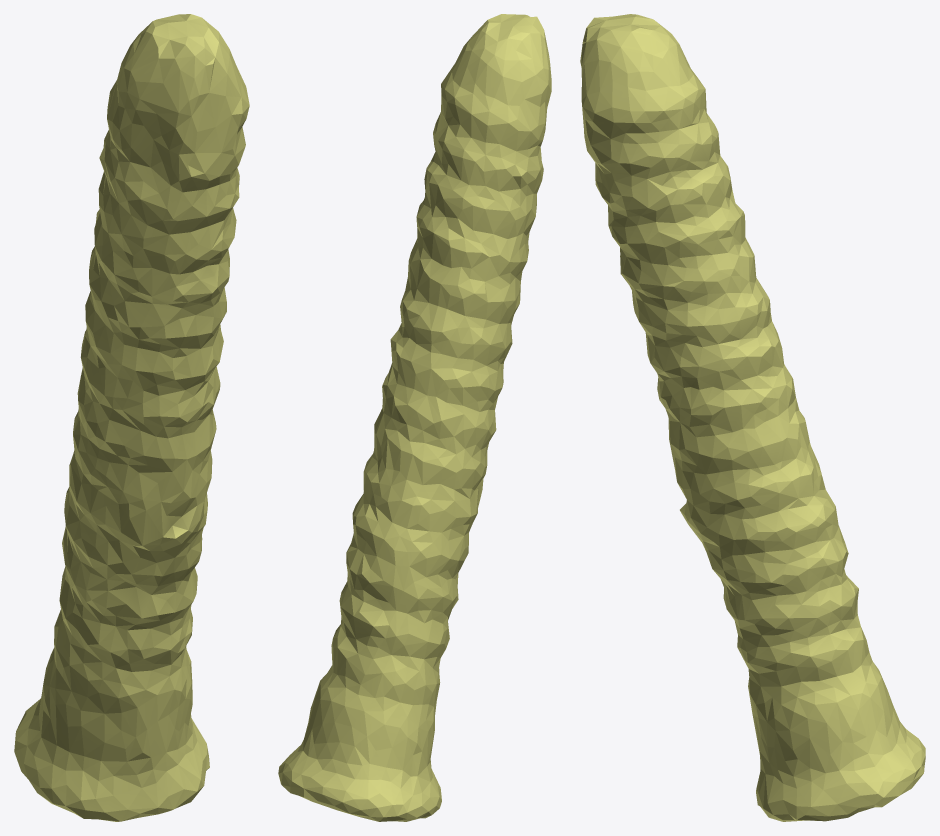
The model's file is Geometry0_lao-local.dae.
The picture shows the model from 3 angles, left to right: view 1: azimuth 30°, elevation 25°; view 2: azimuth 150°, elevation 25°; view 3: azimuth 270°, elevation 25°; orthographic projection. The views are drawn at different scales.
Parts seen in each view (by area): view 1: node; view 2: node; view 3: node.
Part boxes in pixels (x1,y1,x2,y2): node: [14, 14, 249, 821]; node: [278, 14, 551, 821]; node: [580, 14, 925, 821].
Size of the model in its own units: 9.31 by 41.89 by 17.17.
